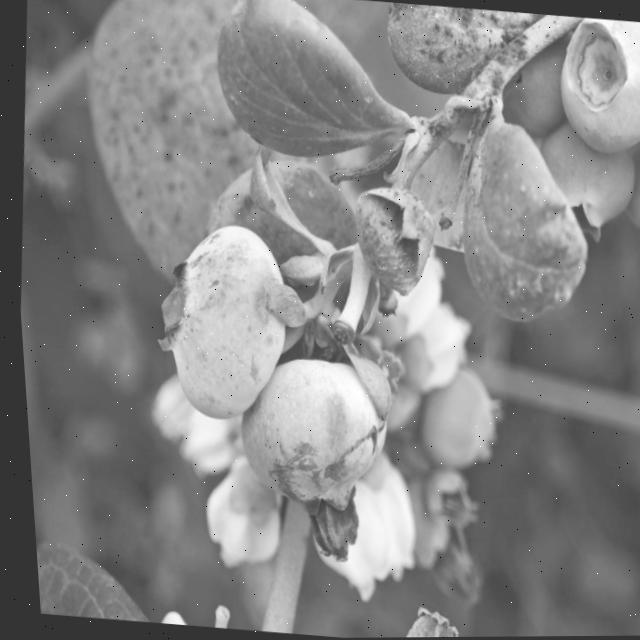RipeBlueBerry: (192, 149, 365, 309)
Semi-RipeBlueBerry: (215, 338, 395, 534), (127, 225, 298, 425)
UnripeBlueBerry: (526, 13, 640, 169), (528, 123, 639, 238), (407, 368, 494, 472)
